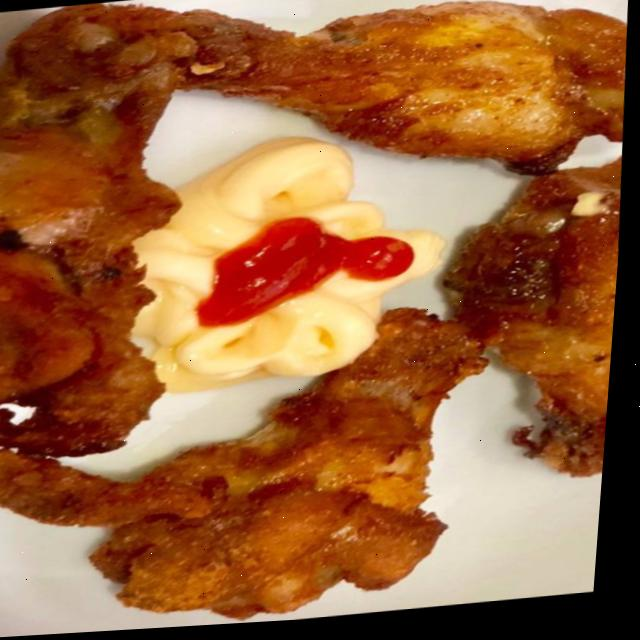Wet: (85, 305, 511, 634), (0, 0, 636, 220)
